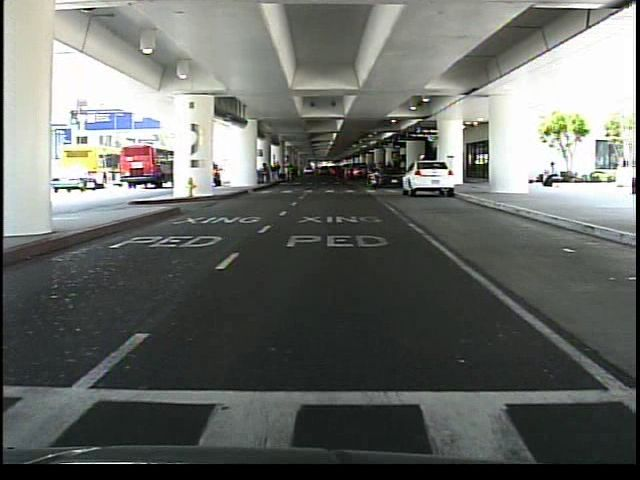car: (405, 161, 452, 195), (369, 162, 411, 187)
